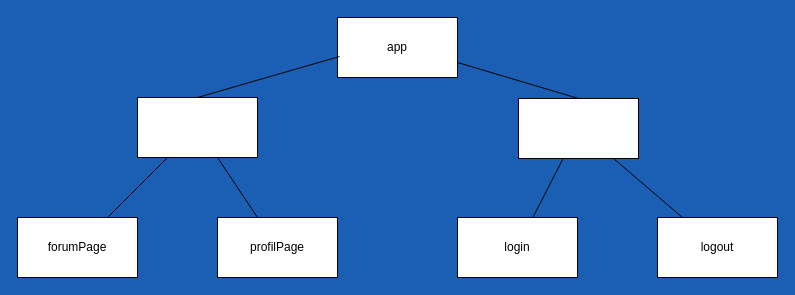
Some shapes in this 795 by 295 pixel diagram are drawn without their labels. Each missing label, with the centre of its shape:
"mainPage" belongs at pixel 197 127.
"navigationPanel" belongs at pixel 578 128.
